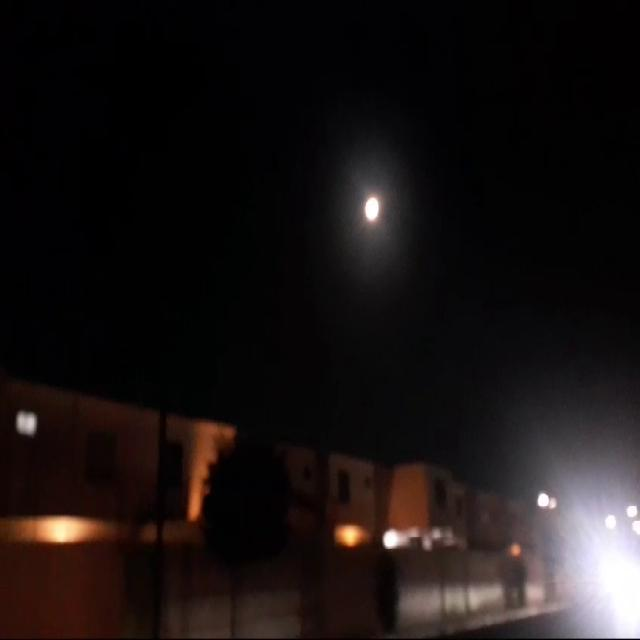moon: (362, 193, 381, 227)
